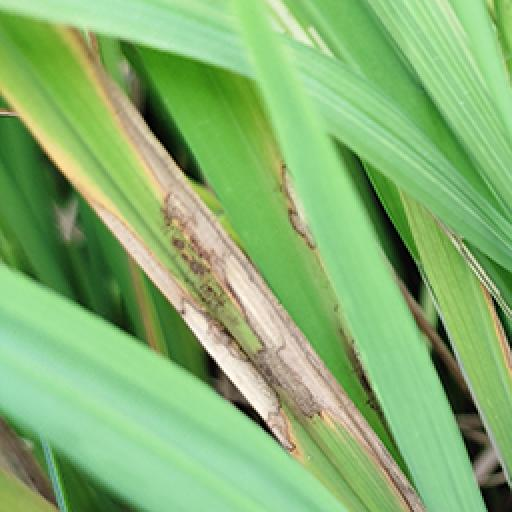Leaf Blast Disease: (12, 22, 378, 454), (270, 154, 336, 258), (372, 456, 436, 512)
